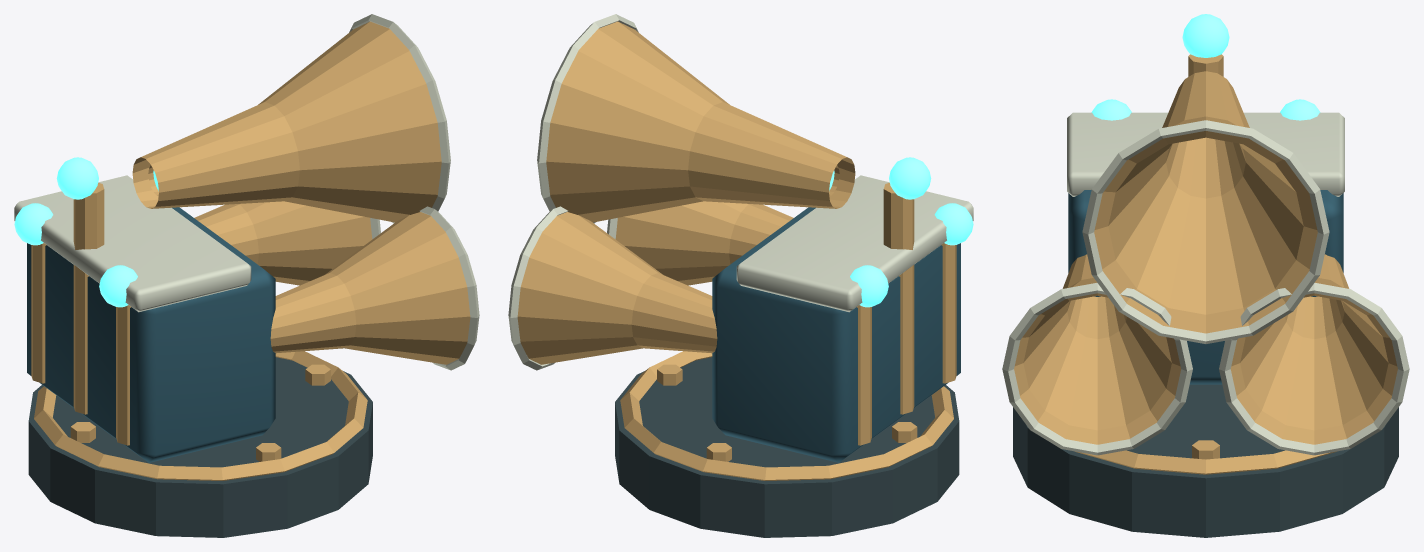
Rendered from module-sonic.glb.
3 views of the same model, side by side, from view 1: azimuth 30°, elevation 25°; view 2: azimuth 150°, elevation 25°; view 3: azimuth 270°, elevation 25° (orthographic). The views are drawn at different scales.
Parts seen in each view (by area): view 1: module-sonic / Fittings | worn maritime brass, module-sonic / Hull | Prussian enamel, module-sonic / Hull | charcoal iron, module-sonic / Insulator | warm porcelain, module-sonic / Lamp | turbine mint; view 2: module-sonic / Fittings | worn maritime brass, module-sonic / Hull | Prussian enamel, module-sonic / Hull | charcoal iron, module-sonic / Insulator | warm porcelain, module-sonic / Lamp | turbine mint; view 3: module-sonic / Fittings | worn maritime brass, module-sonic / Hull | charcoal iron, module-sonic / Insulator | warm porcelain, module-sonic / Hull | Prussian enamel, module-sonic / Lamp | turbine mint.
Boxes of the visible parts, x1,y1,x2,y2 form: module-sonic / Fittings | worn maritime brass: (31,21,470,480); module-sonic / Hull | Prussian enamel: (27,207,275,462); module-sonic / Hull | charcoal iron: (28,357,372,537); module-sonic / Insulator | warm porcelain: (14,14,479,370); module-sonic / Lamp | turbine mint: (14,157,158,307); module-sonic / Fittings | worn maritime brass: (517,21,956,480); module-sonic / Hull | Prussian enamel: (712,207,960,462); module-sonic / Hull | charcoal iron: (615,357,959,537); module-sonic / Insulator | warm porcelain: (508,14,973,370); module-sonic / Lamp | turbine mint: (829,157,973,307); module-sonic / Fittings | worn maritime brass: (1014,54,1397,474); module-sonic / Hull | charcoal iron: (1013,384,1398,537); module-sonic / Insulator | warm porcelain: (1002,112,1409,455); module-sonic / Hull | Prussian enamel: (1068,190,1343,384); module-sonic / Lamp | turbine mint: (1091,14,1320,120).
Size of the model in its own units: 1.9 by 2.07 by 1.73.
